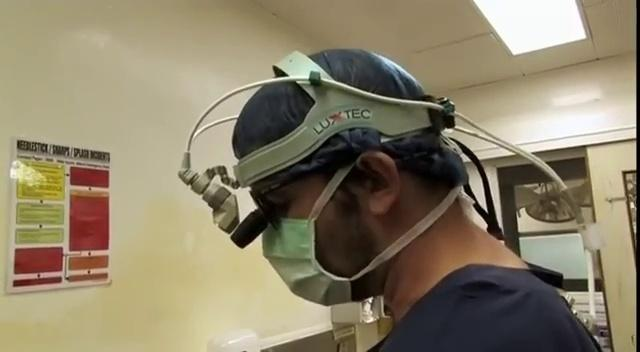others: (191, 46, 611, 351)
